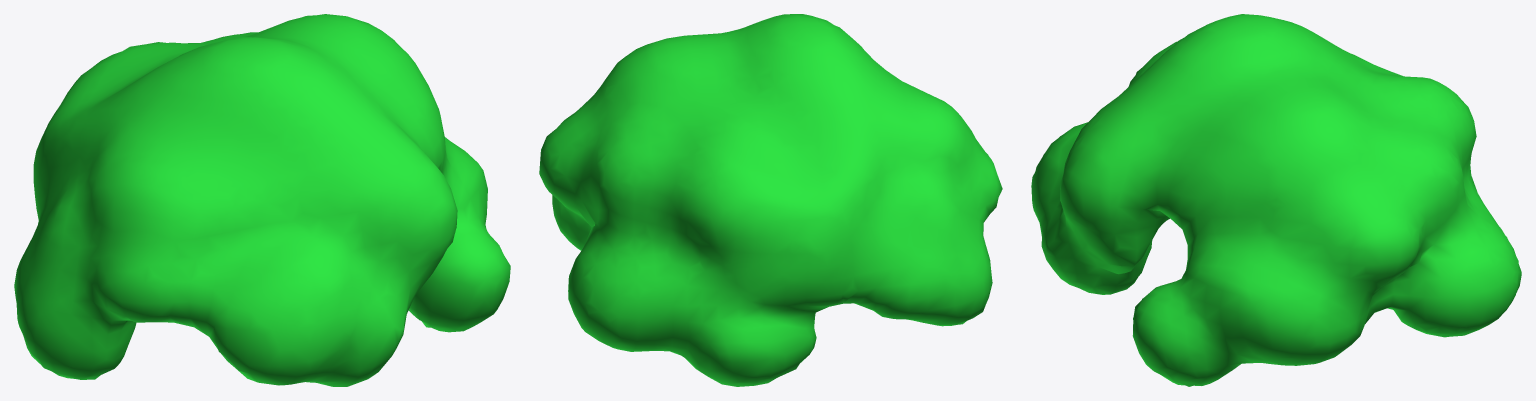
File: tree_leaves.glb
3 renders of one model, left to right at view 1: azimuth 30°, elevation 25°; view 2: azimuth 150°, elevation 25°; view 3: azimuth 270°, elevation 25°, orthographic. The views are drawn at different scales.
Parts seen in each view (by area): view 1: Object_6.001; view 2: Object_6.001; view 3: Object_6.001.
Boxes of the visible parts, left/top/right/bottom form: Object_6.001: left=14, top=14, right=510, bottom=386; Object_6.001: left=539, top=14, right=1002, bottom=386; Object_6.001: left=1031, top=14, right=1521, bottom=386.
Bounding box in the file's own units: 6.9 × 4.5 × 6.87.
